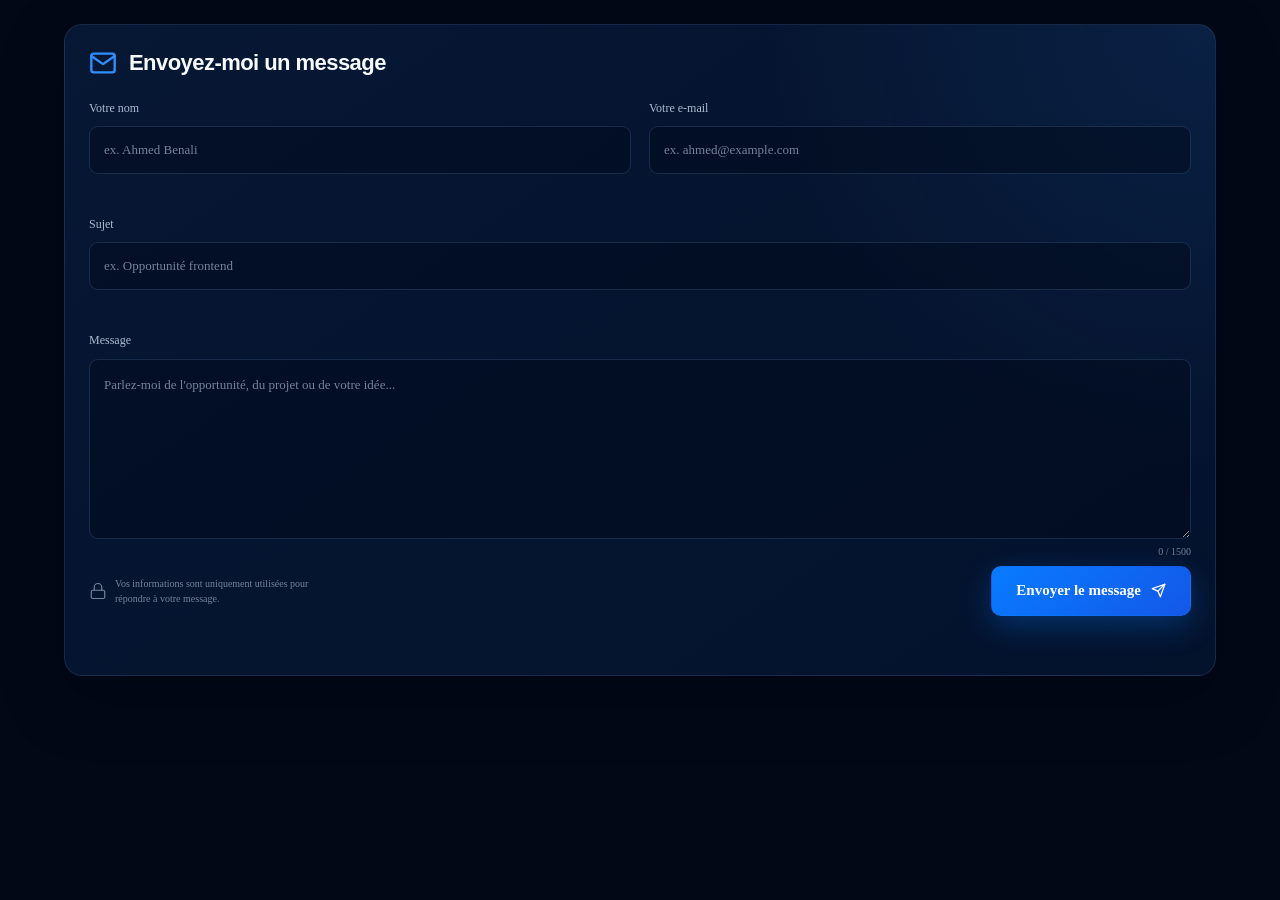
ContactForm › translates response codes without displaying provider errors
Type "Jane Doe" into the field labelled "Votre nom" at point(360, 150), box x1=89 y1=126 x2=631 y2=174
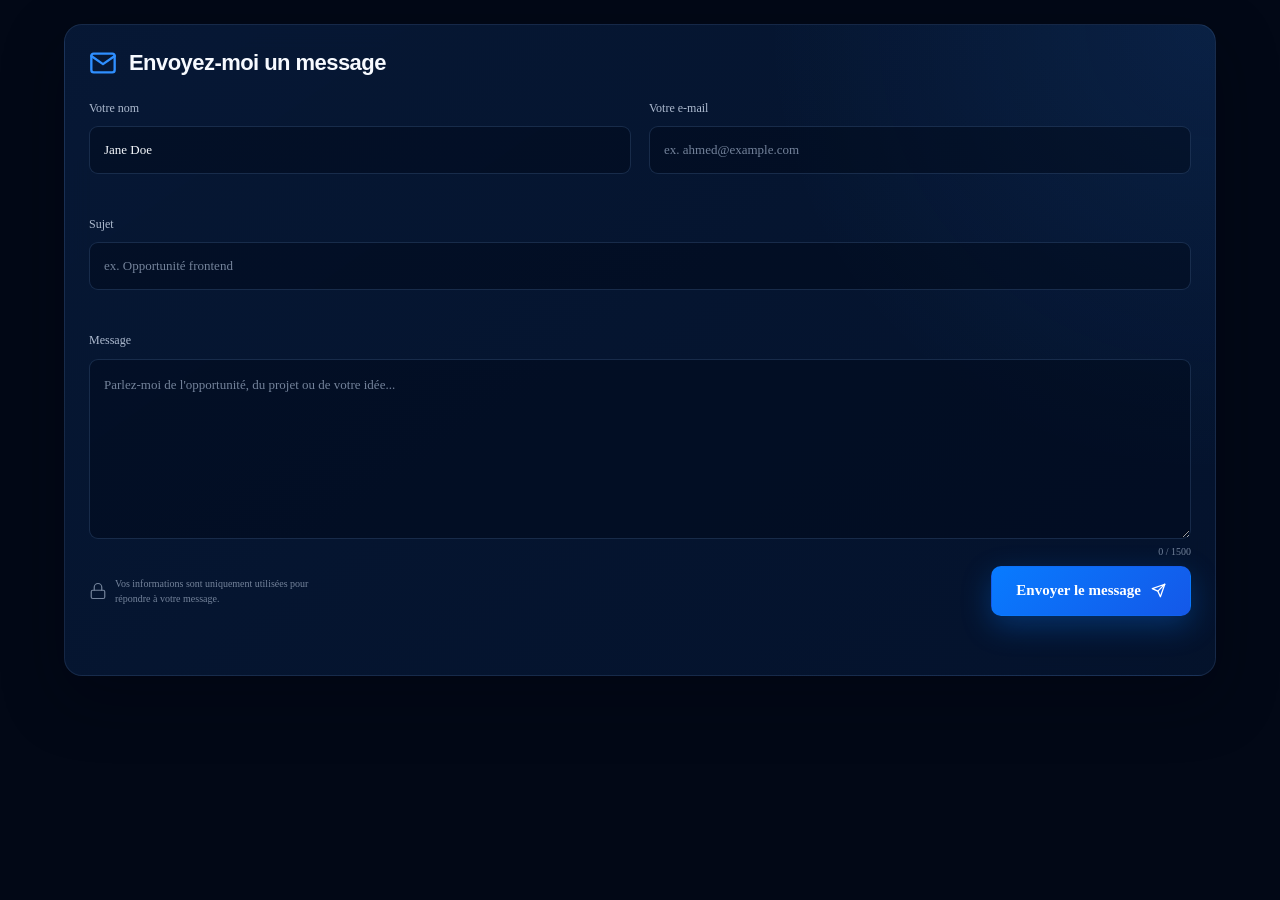
Type "jane@example.com" into the field labelled "Votre e-mail" at point(920, 150), box x1=649 y1=126 x2=1191 y2=174
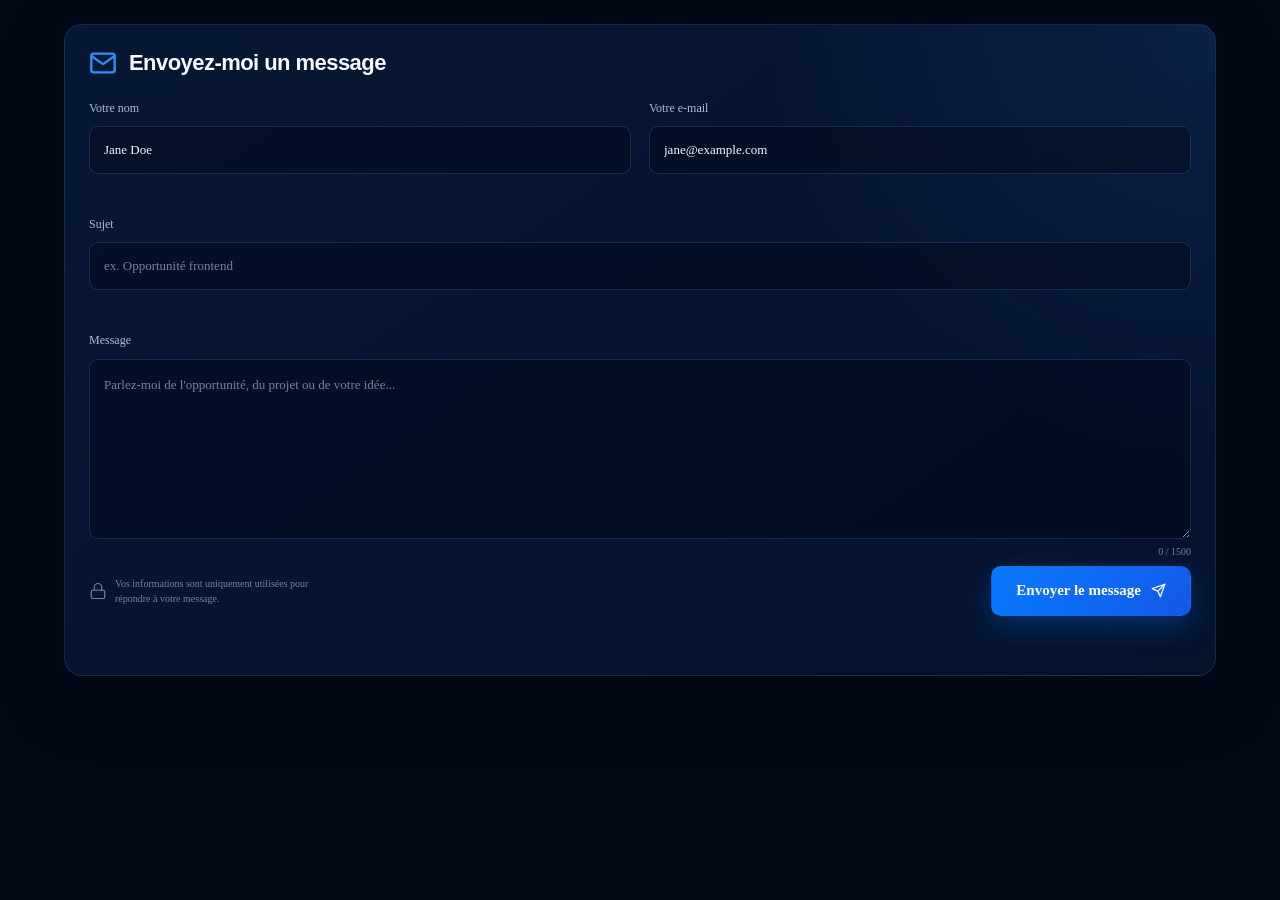
Type "Opportunité frontend" into the field labelled "Sujet" at point(640, 266), box x1=89 y1=242 x2=1191 y2=290
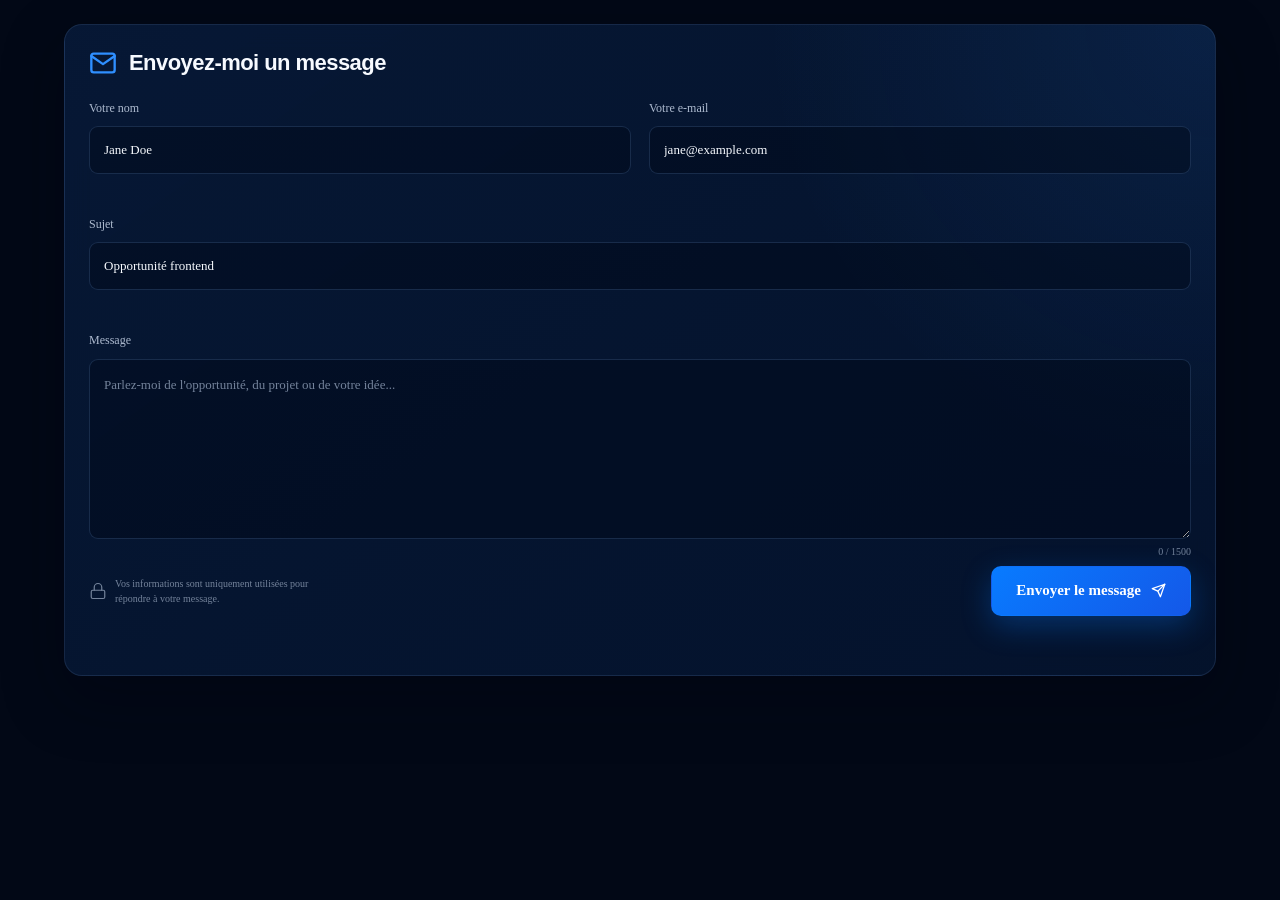
Type "Je souhaite discuter d'une opportunité frontend." into the text box labelled "Message" at point(640, 449), box x1=89 y1=359 x2=1191 y2=539
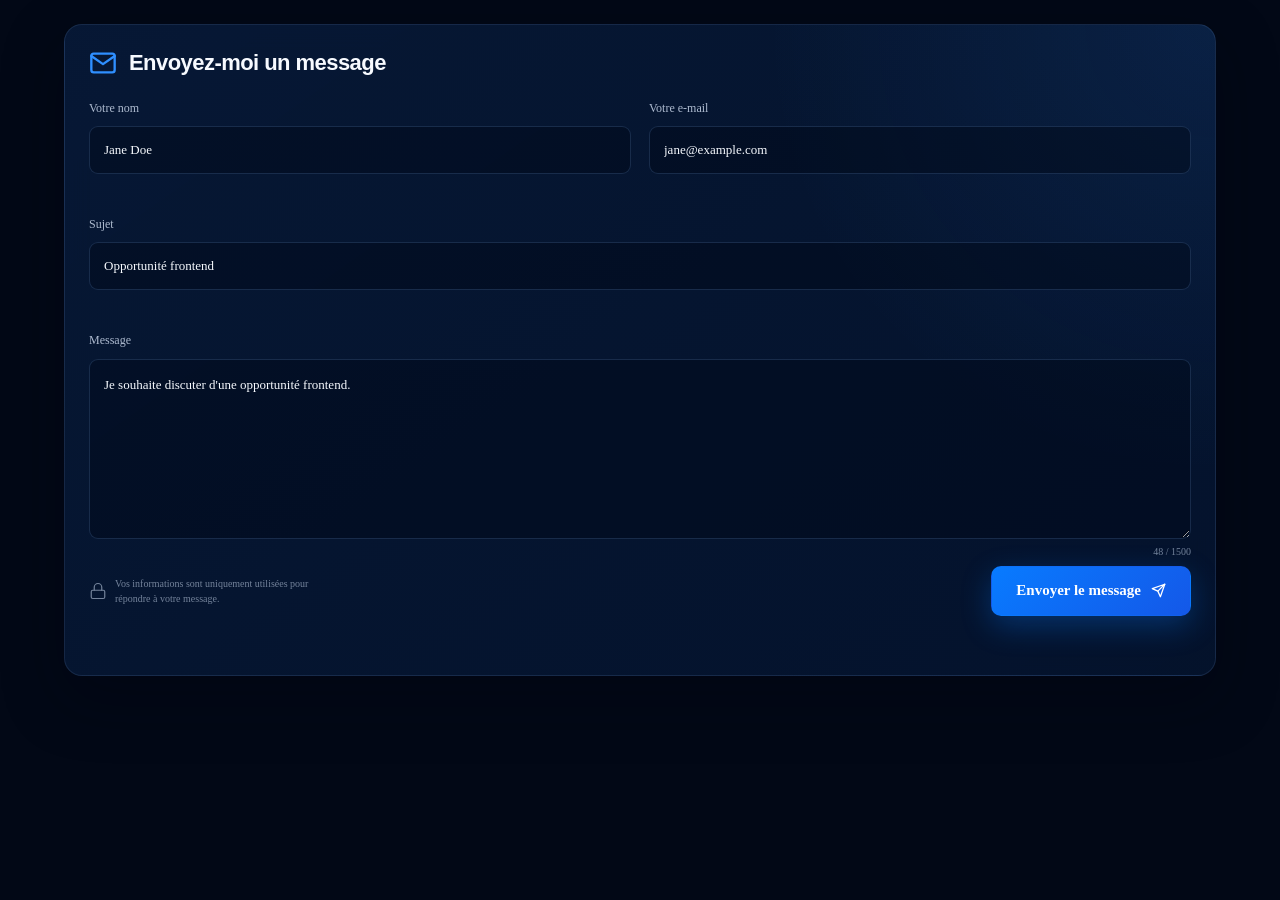
Click the button "Envoyer le message" at point(1091, 591), box x1=991 y1=566 x2=1191 y2=616
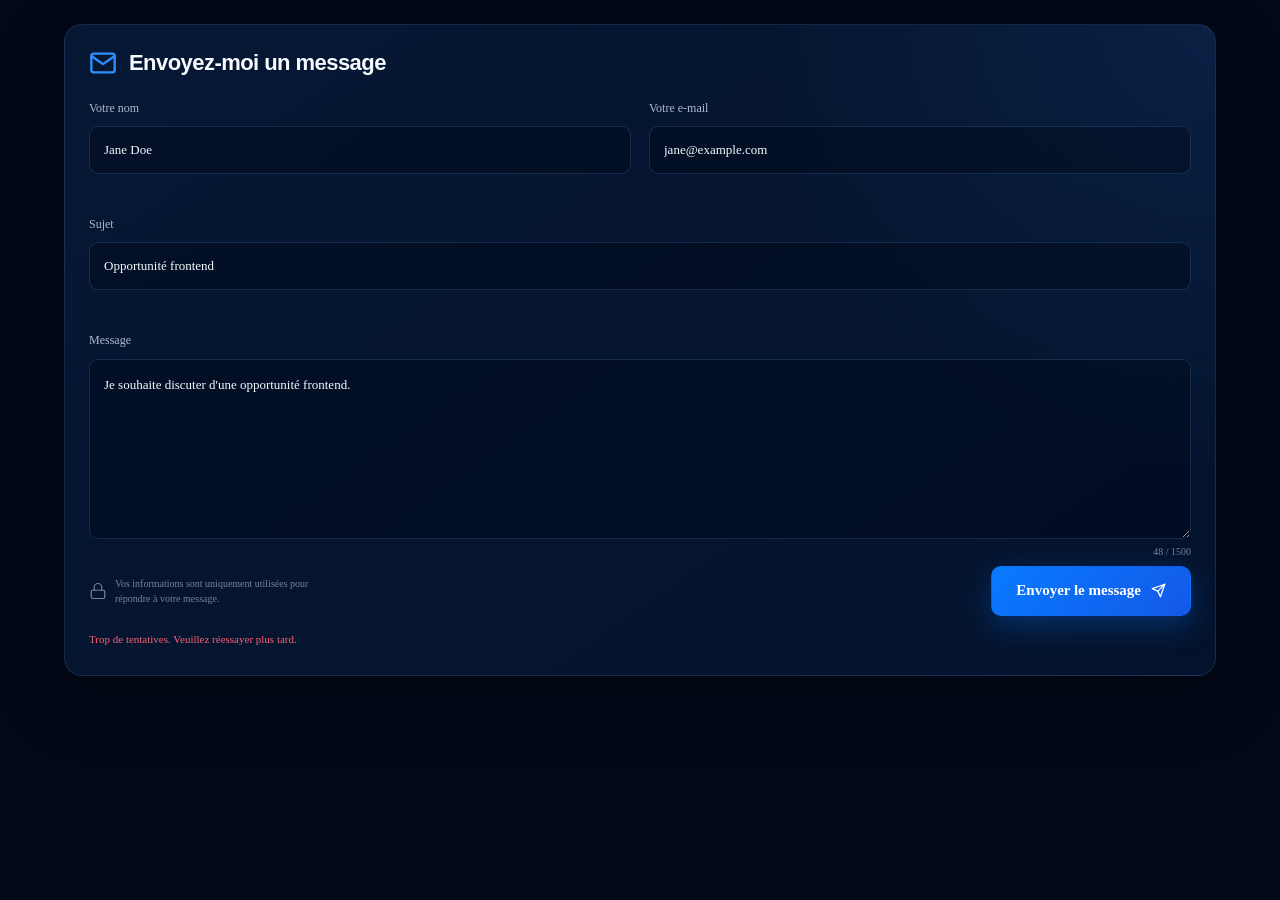
Result: the text "Trop de tentatives. Veuillez réessayer plus tard." is shown at x1=89 y1=633 x2=297 y2=645
